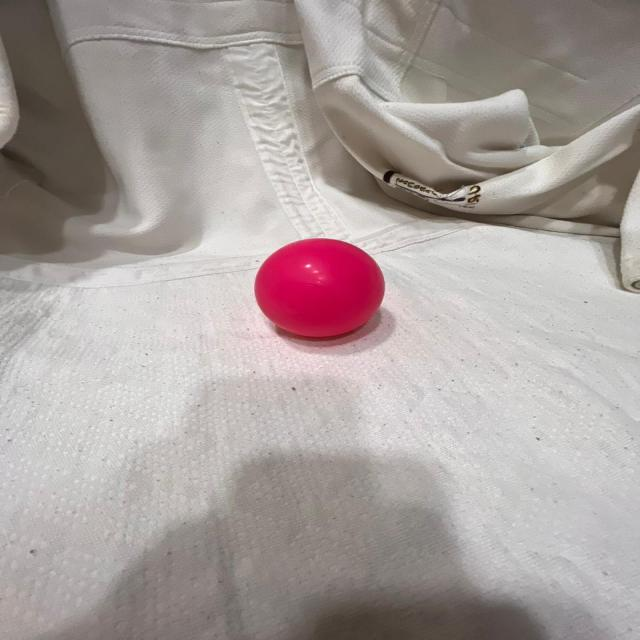ball: (250, 234, 388, 343)
